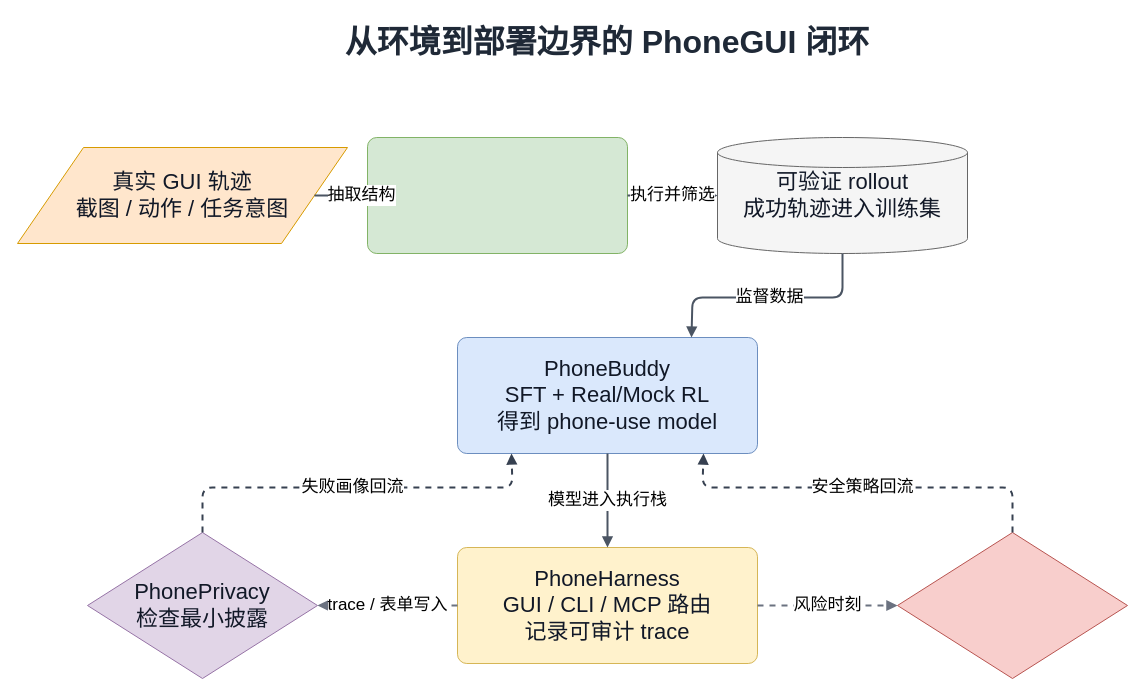
Image size: 1145x696. Some labels were removed from this diagram. The shapes that lost their labels are listed below. From the top down, each one's centre as x and y in pixels, then its label:
At (497,195): "PhoneWorld 构建 Mock App 生成任务与 verifier".
At (1012,605): "PhoneSafety 区分安全判断 和不会操作".
